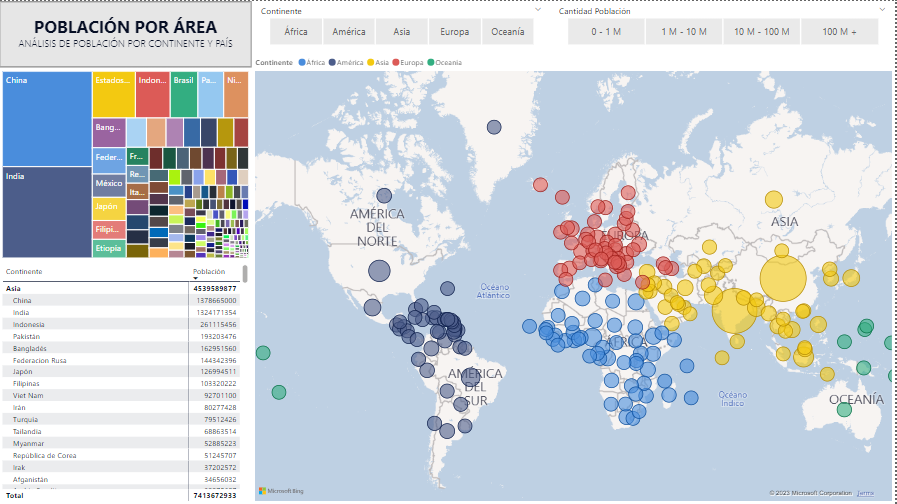

The dashboard page shown, as its layout file describes it:
{"tool":"powerbi","page":{"name":"Población por área","canvas":[1280,720],"ordinal":0},"visuals":[{"type":"pivotTable","fields":{"Rows":["Paises.Continente","Paises.Pais"],"Values":["Sum(Population.Population)"]},"box":[0,371.5,361.4,348.5],"z":0},{"type":"slicer","fields":{"Values":["Population.Cantidad Población"]},"box":[787.7,0,492.5,69.1],"z":1000},{"type":"slicer","fields":{"Values":["Paises.Continente"]},"box":[361.4,0,426.2,69.1],"z":2000},{"type":"treemap","fields":{"Group":["Paises.Pais"],"Values":["Sum(Population.Población)"]},"box":[0,95,361.4,276.5],"z":3000},{"type":"map","fields":{"Category":["Paises.Continente","Paises.Pais"],"Size":["Sum(Population.Población)"],"Series":["Paises.Continente"]},"box":[361.4,69.1,918.7,650.9],"z":4000},{"type":"shape","box":[0,0,361.4,95],"z":5000},{"type":"textbox","box":[10.1,14.4,341.3,64.8],"z":6000}]}

Visuals, with their boxes in screenshot pixels (x1, y1, x2, y2), scaled from the page's 1280x720 canvas onto the 897x504 screenshot:
pivotTable - Paises.Continente x Paises.Pais: region(0, 260, 253, 503)
slicer - Population.Cantidad Población: region(552, 0, 896, 48)
slicer - Paises.Continente: region(253, 0, 552, 48)
treemap - Paises.Pais x Sum(Population.Población): region(0, 66, 253, 260)
map - Paises.Continente x Paises.Pais: region(253, 48, 896, 503)
shape: region(0, 0, 253, 66)
textbox: region(7, 10, 246, 55)
